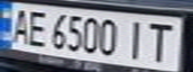0: (96, 16, 124, 58), (81, 15, 103, 55)
5: (63, 12, 84, 53)
6: (45, 11, 69, 52)
A: (3, 6, 33, 45)
E: (24, 8, 51, 47)
I: (121, 17, 151, 61)
T: (142, 19, 181, 63)
